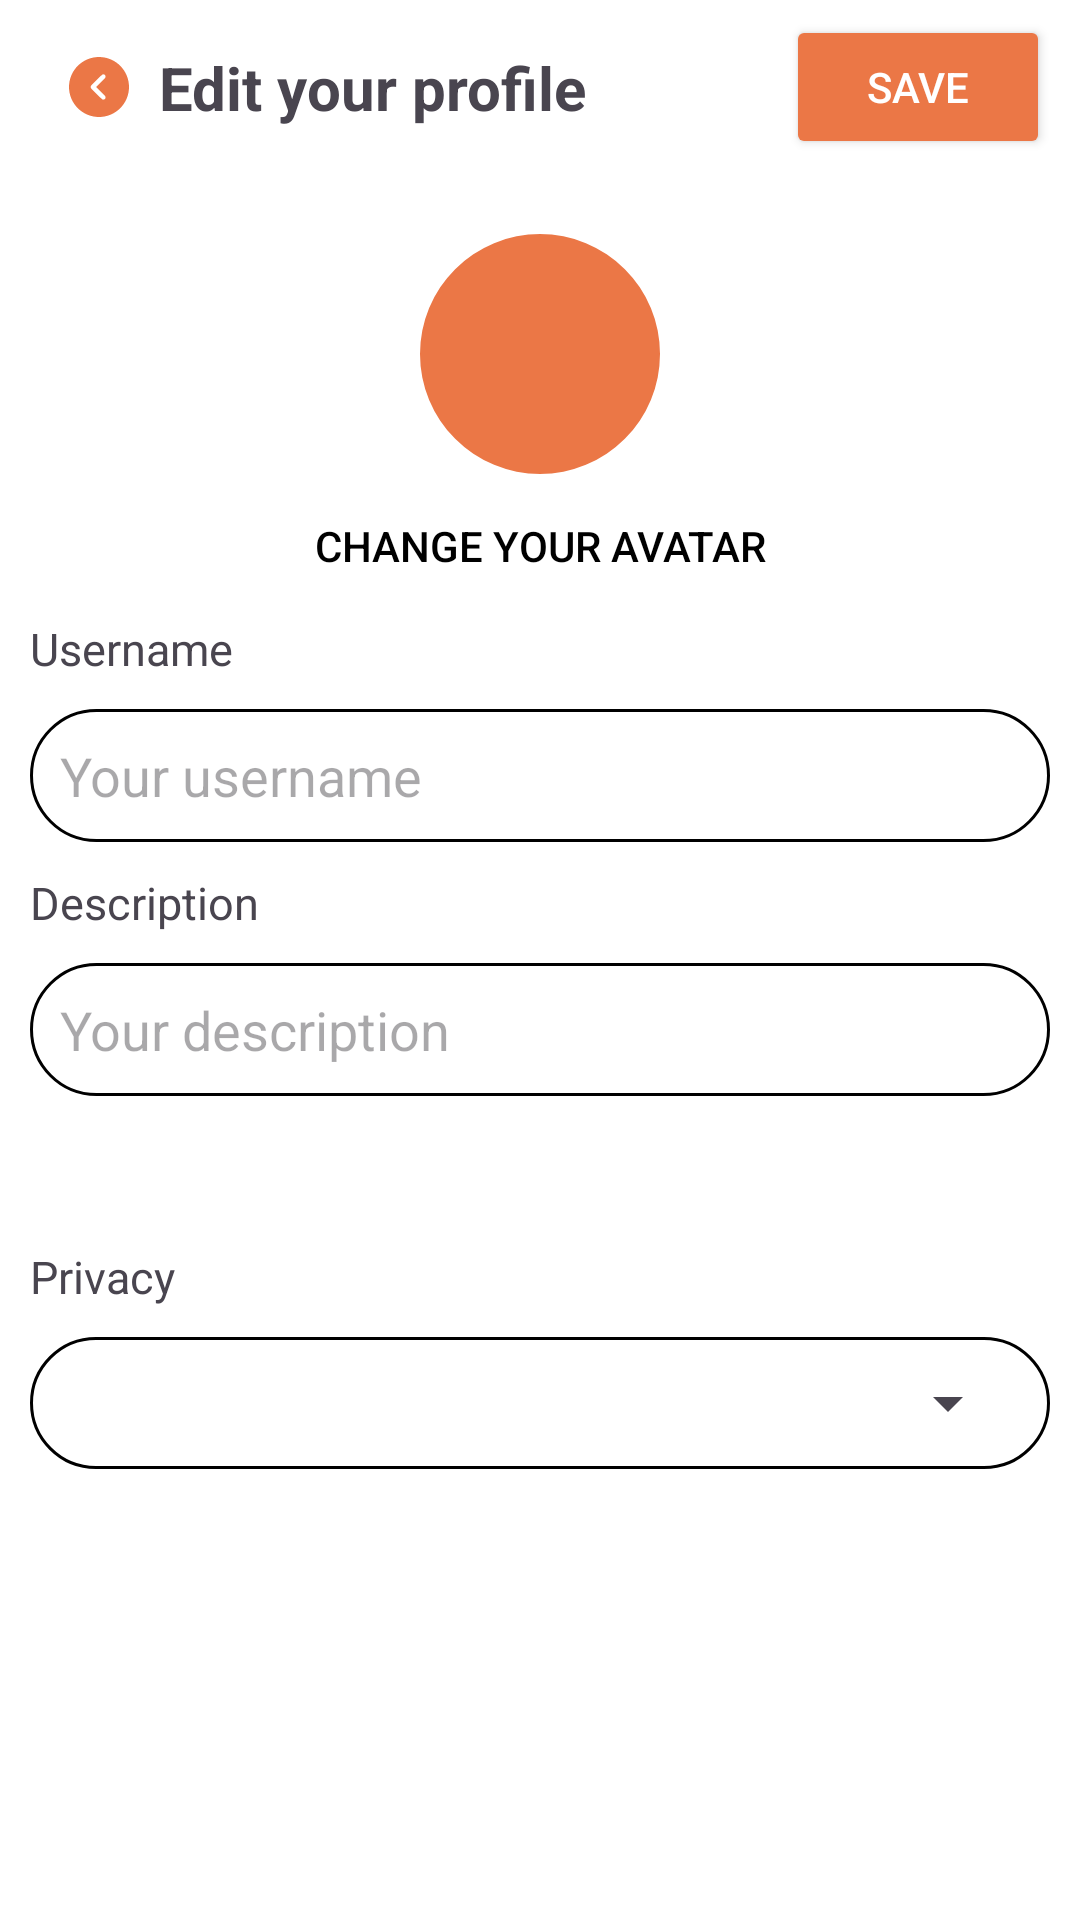

Named icons in this screenshot (1080*1920) and their bounding boxes, (x1, y1, x2, y2):
murom arrow left circle: (69, 57, 129, 117)
